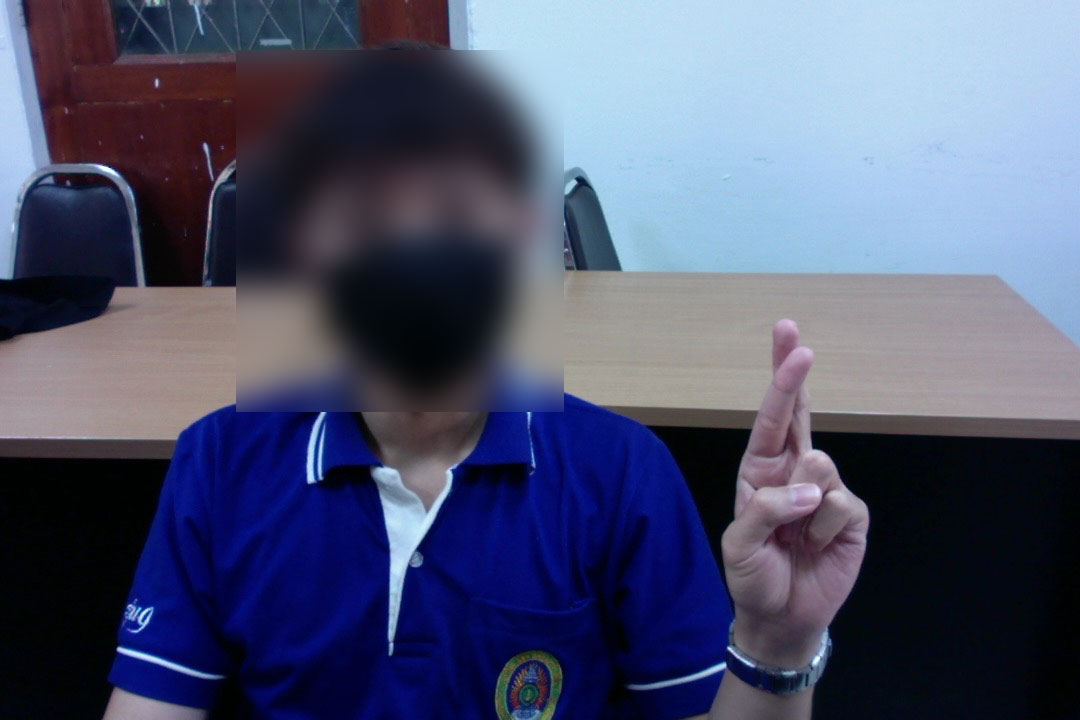rao: (707, 312, 880, 647)
